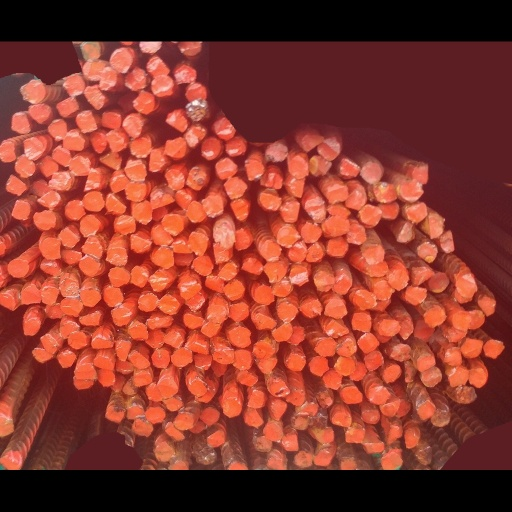dipstick: (21, 79, 46, 104), (323, 216, 349, 237), (318, 137, 340, 160), (257, 189, 281, 210), (84, 87, 104, 112), (123, 68, 146, 89), (153, 246, 174, 269), (110, 49, 131, 71), (83, 191, 105, 212), (229, 326, 251, 347), (324, 298, 346, 319), (308, 156, 330, 177), (225, 178, 247, 199), (305, 197, 325, 220), (189, 231, 207, 256), (125, 160, 146, 181), (165, 137, 186, 158), (153, 441, 174, 462), (23, 137, 43, 159), (263, 262, 285, 282), (405, 202, 427, 222), (357, 333, 379, 353), (28, 104, 51, 123), (288, 156, 307, 179), (401, 181, 424, 200), (174, 64, 195, 84), (215, 119, 235, 140), (83, 60, 103, 81), (80, 215, 100, 236), (152, 225, 173, 245), (21, 284, 41, 305), (277, 302, 298, 322), (301, 223, 322, 243), (326, 238, 347, 258), (265, 143, 287, 162), (146, 57, 168, 76), (123, 116, 142, 138), (108, 267, 130, 286), (186, 124, 204, 147), (135, 91, 153, 114), (187, 167, 205, 190), (33, 211, 56, 229), (457, 274, 475, 297), (166, 112, 186, 132), (200, 138, 220, 158), (125, 182, 145, 202), (103, 287, 123, 307), (224, 281, 244, 301), (277, 227, 297, 247), (313, 271, 333, 291), (361, 163, 381, 183), (186, 102, 207, 121), (64, 74, 83, 95), (57, 97, 78, 116), (77, 111, 96, 132), (129, 138, 150, 157), (163, 215, 184, 234), (80, 288, 101, 307), (204, 195, 223, 216), (158, 295, 179, 314), (207, 304, 228, 323), (326, 185, 347, 204), (216, 159, 237, 178), (424, 308, 445, 327), (413, 321, 434, 340), (461, 338, 482, 357), (151, 77, 173, 95), (353, 291, 375, 309), (281, 200, 299, 222), (314, 338, 336, 356), (381, 452, 403, 470), (38, 191, 61, 208), (135, 201, 152, 224), (60, 299, 83, 316), (252, 340, 275, 357), (428, 214, 444, 238), (107, 132, 126, 152), (15, 158, 35, 177), (70, 156, 90, 175), (165, 169, 184, 189), (106, 194, 126, 213), (60, 228, 79, 248), (80, 256, 100, 275), (111, 307, 131, 326), (158, 378, 178, 397), (254, 285, 273, 305), (361, 206, 381, 225), (375, 183, 394, 203), (417, 243, 437, 262), (429, 273, 449, 292), (12, 113, 30, 134), (5, 176, 26, 194), (107, 247, 128, 265), (43, 238, 61, 259), (187, 201, 205, 222), (170, 349, 191, 367), (228, 302, 249, 320), (369, 386, 390, 404), (341, 386, 362, 404), (241, 257, 263, 274), (48, 119, 67, 138), (39, 157, 58, 176), (149, 272, 168, 291), (215, 228, 234, 247), (347, 225, 366, 244), (337, 338, 356, 357), (336, 356, 355, 375), (364, 351, 383, 370), (484, 339, 503, 358), (81, 42, 101, 60), (193, 257, 213, 275), (222, 397, 240, 417), (272, 323, 292, 341), (396, 223, 414, 243), (421, 368, 441, 386), (301, 134, 322, 151), (130, 235, 151, 252), (131, 266, 148, 287), (137, 294, 158, 311), (131, 419, 152, 436), (301, 300, 322, 317), (456, 386, 477, 403), (224, 139, 246, 155), (234, 228, 250, 250), (1, 454, 23, 470), (100, 67, 115, 90), (41, 286, 59, 305), (60, 278, 79, 296), (219, 261, 237, 280), (151, 349, 170, 367), (244, 409, 263, 427), (264, 424, 283, 442), (263, 242, 281, 261), (290, 266, 308, 285), (365, 246, 384, 264), (346, 190, 364, 209), (389, 271, 407, 290), (352, 313, 371, 331), (309, 357, 328, 375), (383, 364, 401, 383), (449, 368, 468, 386), (186, 84, 206, 101), (100, 153, 120, 170), (9, 260, 29, 277), (213, 243, 230, 263), (163, 331, 183, 348), (234, 350, 251, 370), (231, 200, 248, 220), (469, 368, 486, 388), (90, 132, 106, 153), (82, 241, 103, 257), (338, 163, 359, 179), (412, 270, 433, 286), (379, 319, 400, 335), (149, 150, 164, 172), (186, 339, 208, 354), (236, 371, 258, 386), (326, 321, 348, 336), (110, 175, 128, 193), (66, 201, 84, 219), (68, 331, 86, 349), (205, 275, 223, 293), (166, 422, 184, 440), (270, 380, 288, 398), (452, 312, 470, 330), (12, 200, 29, 219), (129, 323, 148, 340), (131, 352, 150, 369), (198, 448, 217, 465), (200, 407, 219, 424), (286, 354, 305, 371), (391, 344, 410, 361), (444, 347, 461, 366), (417, 400, 434, 419), (145, 407, 165, 423), (480, 295, 496, 315), (84, 170, 99, 191), (183, 313, 204, 328), (116, 340, 131, 361), (213, 348, 234, 363), (255, 313, 276, 328), (52, 149, 70, 166), (117, 216, 135, 233), (147, 329, 164, 347), (175, 412, 193, 429), (207, 430, 224, 448), (287, 388, 305, 405), (287, 327, 305, 344), (289, 244, 306, 262), (417, 353, 434, 371), (431, 409, 449, 426), (381, 400, 399, 417), (324, 371, 341, 389), (317, 426, 334, 444), (101, 112, 120, 128), (105, 406, 124, 422), (258, 358, 277, 374), (375, 281, 391, 300), (294, 451, 313, 467), (289, 178, 304, 198), (345, 427, 365, 442), (73, 365, 96, 378), (63, 136, 84, 150), (152, 193, 173, 207), (440, 231, 454, 252), (31, 179, 48, 196), (97, 369, 114, 386), (195, 353, 212, 370), (60, 321, 78, 337), (202, 322, 220, 338), (247, 390, 263, 408), (313, 450, 331, 466), (282, 433, 298, 451), (292, 413, 308, 431), (317, 389, 333, 407), (147, 317, 173, 328), (405, 427, 418, 449), (0, 143, 15, 162), (50, 173, 69, 188), (185, 296, 204, 311), (94, 354, 113, 369), (307, 243, 322, 262), (413, 165, 428, 184), (387, 423, 402, 442), (180, 283, 200, 297), (32, 348, 52, 362), (267, 456, 287, 470), (271, 400, 285, 420), (91, 337, 114, 349), (327, 206, 350, 218), (179, 42, 200, 55), (40, 262, 61, 275), (445, 328, 466, 341), (44, 304, 61, 320), (59, 352, 76, 368), (24, 318, 39, 336), (147, 383, 162, 401), (332, 279, 350, 294), (369, 262, 387, 277), (351, 362, 366, 380), (361, 409, 379, 424), (262, 174, 281, 188), (470, 310, 484, 329), (139, 42, 163, 53), (79, 313, 101, 325), (331, 413, 351, 426), (190, 379, 206, 395), (0, 294, 15, 311), (175, 191, 190, 208), (41, 335, 56, 352), (127, 404, 144, 419), (254, 436, 271, 451), (273, 281, 290, 296), (416, 447, 431, 464), (133, 371, 151, 385), (0, 418, 14, 436), (246, 166, 264, 180), (400, 318, 412, 339), (309, 414, 327, 428), (61, 251, 81, 263), (381, 203, 396, 219), (364, 441, 384, 453), (299, 403, 317, 416), (73, 378, 94, 389), (151, 207, 167, 221), (175, 253, 192, 266), (163, 398, 183, 409), (397, 400, 410, 416), (173, 241, 190, 253), (115, 361, 132, 373), (199, 389, 214, 402), (124, 377, 136, 393), (454, 291, 471, 302), (341, 457, 355, 470), (212, 364, 227, 376), (190, 422, 205, 433), (114, 376, 124, 391)
